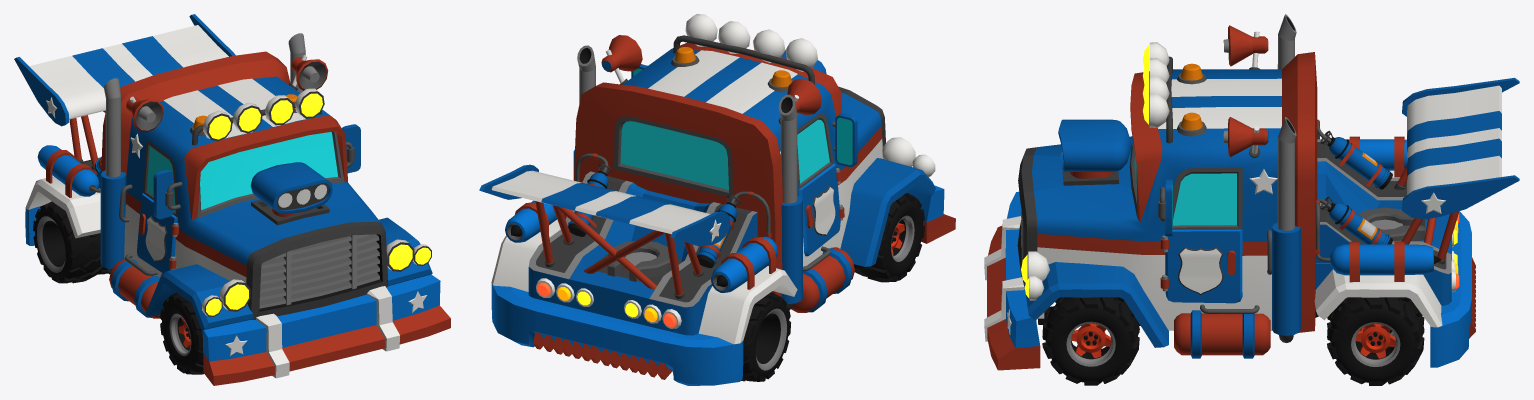
File: SVehicle012.fbx
The picture shows the model from 3 angles, left to right: view 1: azimuth 30°, elevation 25°; view 2: azimuth 150°, elevation 25°; view 3: azimuth 270°, elevation 25°; orthographic projection. The views are drawn at different scales.
Visible parts, largest first — view 1: SVehicle012, SV012_BR, SV012_FR; view 2: SVehicle012, SV012_FR, SV012_BR; view 3: SVehicle012, SV012_BL, SV012_FL.
Part boxes in pixels (x1,y1,x2,y2): SVehicle012: [14, 14, 450, 385]; SV012_BR: [33, 201, 110, 283]; SV012_FR: [160, 292, 203, 374]; SVehicle012: [479, 14, 955, 385]; SV012_FR: [853, 193, 924, 282]; SV012_BR: [741, 292, 790, 381]; SVehicle012: [984, 14, 1519, 370]; SV012_BL: [1327, 297, 1424, 385]; SV012_FL: [1042, 297, 1139, 385].
Size of the model in its own units: 284 by 263 by 488.
1 material, 1 textured.
